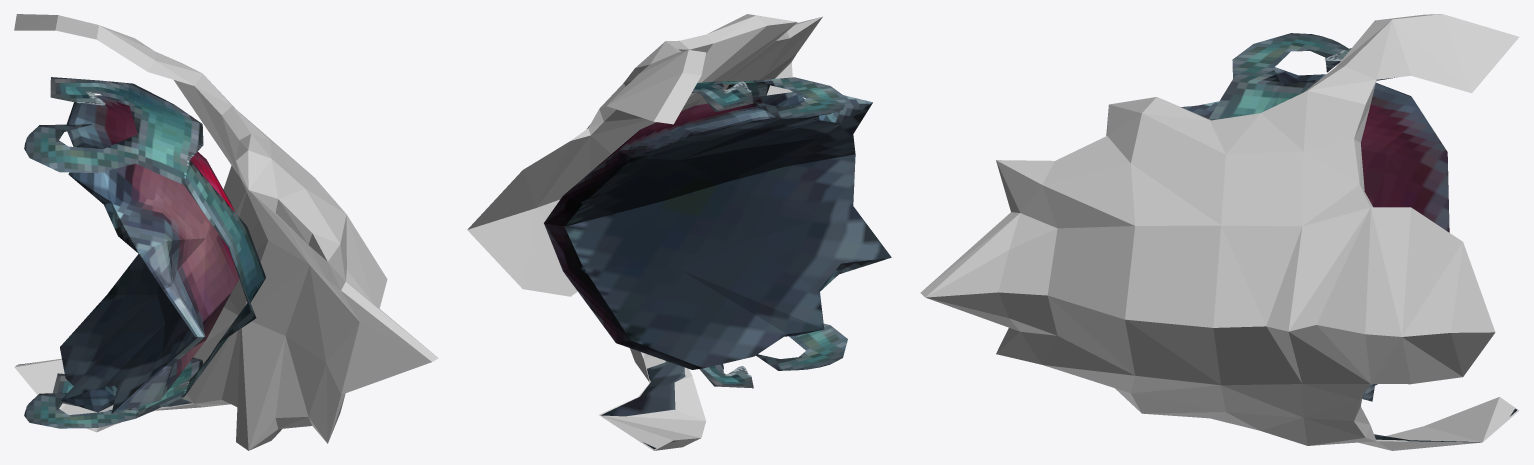
Rendered from common_shoulder_66540.obj.
3 views of the same model, side by side, from view 1: azimuth 30°, elevation 25°; view 2: azimuth 150°, elevation 25°; view 3: azimuth 270°, elevation 25° (orthographic). The views are drawn at different scales.
Visible parts, largest first — view 1: common_shoulder_66540, Object01; view 2: common_shoulder_66540, Object01; view 3: Object01, common_shoulder_66540.
Part boxes in pixels (box(x1,y1,x2,y2)): common_shoulder_66540: box(18, 77, 265, 428); Object01: box(14, 14, 438, 450); common_shoulder_66540: box(544, 77, 891, 449); Object01: box(467, 14, 822, 450); Object01: box(920, 14, 1519, 450); common_shoulder_66540: box(1181, 21, 1516, 442).
Bounding box in the file's own units: 13.6 × 16.79 × 21.14.
